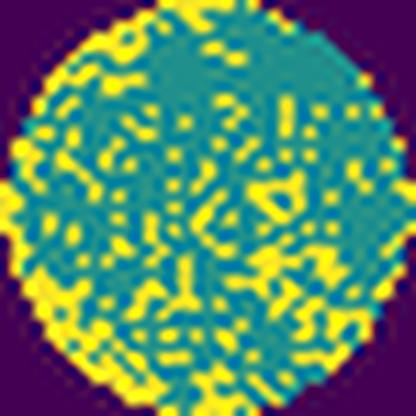Edge-Loc: (0, 182, 272, 415), (24, 0, 255, 121), (8, 133, 53, 199)
